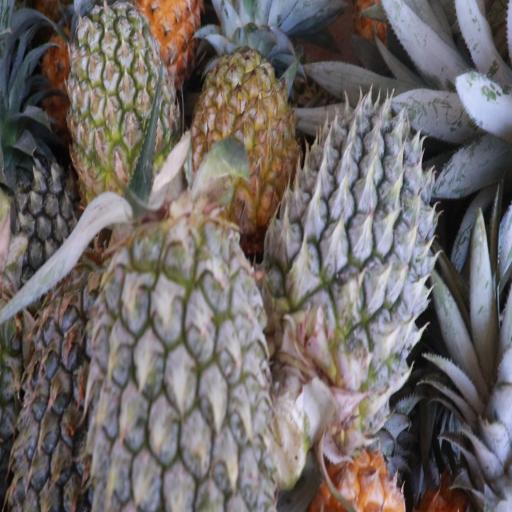------------------------------: (66, 5, 176, 187)
Pineapple - v8 v1: (190, 46, 298, 225)
